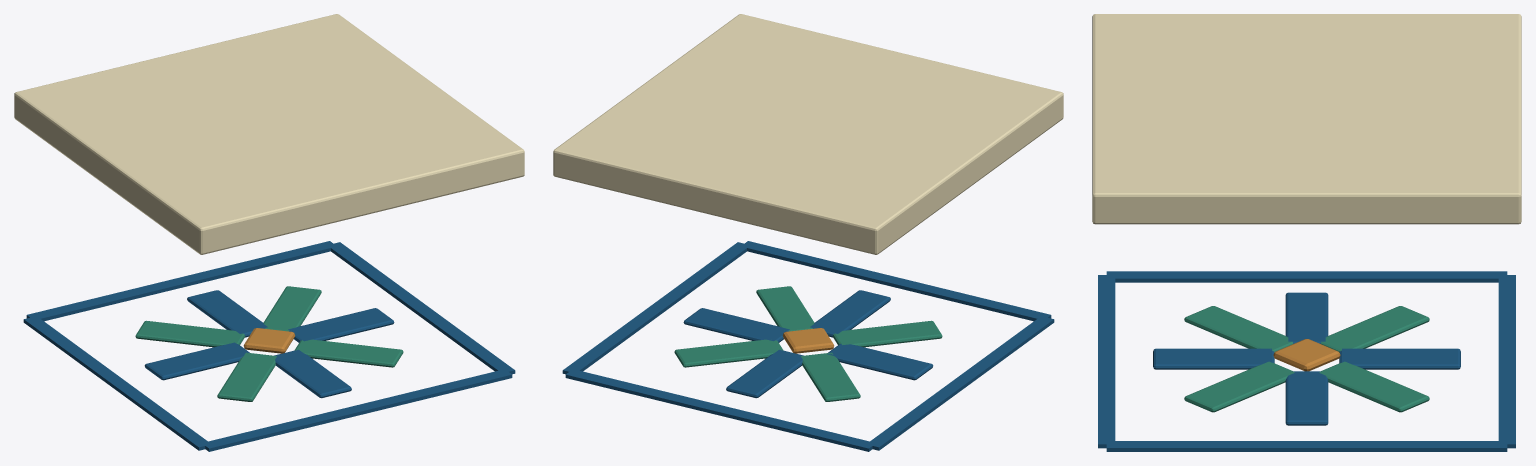
Rendered from source-edit.glb.
3 renders of one model, left to right at view 1: azimuth 30°, elevation 25°; view 2: azimuth 150°, elevation 25°; view 3: azimuth 270°, elevation 25°, orthographic. The views are drawn at different scales.
Parts seen in each view (by area): view 1: TILE_Base, BORDER.001, BORDER.002, BORDER.003, BORDER, PETAL_4, PETAL_7, PETAL_3, PETAL_0, PETAL_6, PETAL_5, PETAL_2 (+2 smaller); view 2: TILE_Base, BORDER.002, BORDER.001, BORDER.003, BORDER, PETAL_4, PETAL_1, PETAL_5, PETAL_0, PETAL_2, PETAL_3, PETAL_6 (+2 smaller); view 3: TILE_Base, BORDER.003, BORDER, BORDER.001, BORDER.002, PETAL_2, PETAL_6, PETAL_1, PETAL_7, PETAL_5, PETAL_3, PETAL_0 (+2 smaller).
Boxes of the visible parts, box(x1,y1,x2,y2) form: TILE_Base: box(14, 14, 524, 254); BORDER.001: box(204, 370, 512, 451); BORDER.002: box(26, 241, 336, 321); BORDER.003: box(23, 317, 211, 450); BORDER: box(331, 242, 515, 374); PETAL_4: box(144, 342, 249, 380); PETAL_7: box(294, 339, 403, 367); PETAL_3: box(135, 320, 245, 347); PETAL_0: box(288, 308, 394, 342); PETAL_6: box(274, 349, 351, 398); PETAL_5: box(217, 352, 276, 401); PETAL_2: box(187, 290, 267, 337); TILE_Base: box(553, 14, 1063, 254); BORDER.002: box(565, 370, 873, 451); BORDER.001: box(741, 241, 1051, 321); BORDER.003: box(866, 317, 1054, 450); BORDER: box(562, 242, 746, 374); PETAL_4: box(827, 344, 933, 380); PETAL_1: box(674, 339, 783, 367); PETAL_5: box(832, 320, 942, 347); PETAL_0: box(683, 308, 789, 342); PETAL_2: box(726, 349, 803, 398); PETAL_3: box(801, 352, 860, 401); PETAL_6: box(810, 290, 890, 337); TILE_Base: box(1092, 14, 1521, 224); BORDER.003: box(1106, 271, 1507, 282); BORDER: box(1106, 441, 1507, 451); BORDER.001: box(1098, 275, 1115, 448); BORDER.002: box(1498, 275, 1515, 448); PETAL_2: box(1339, 348, 1460, 369); PETAL_6: box(1153, 348, 1274, 369); PETAL_1: box(1319, 361, 1429, 412); PETAL_7: box(1184, 361, 1294, 412); PETAL_5: box(1184, 306, 1293, 352); PETAL_3: box(1320, 306, 1429, 352); PETAL_0: box(1285, 371, 1328, 425).
Bounding box in the file's own units: 0.3 × 0.2005 × 0.3.
